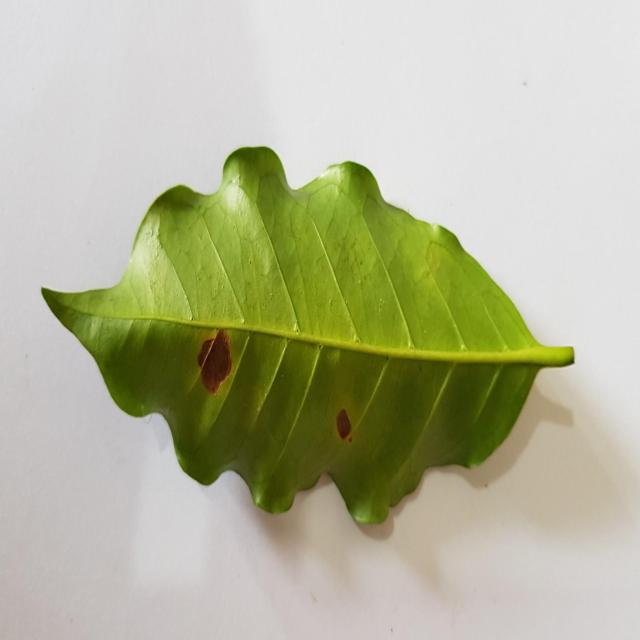Enfermedad-Mancha-de-hierro: (39, 146, 576, 544)
